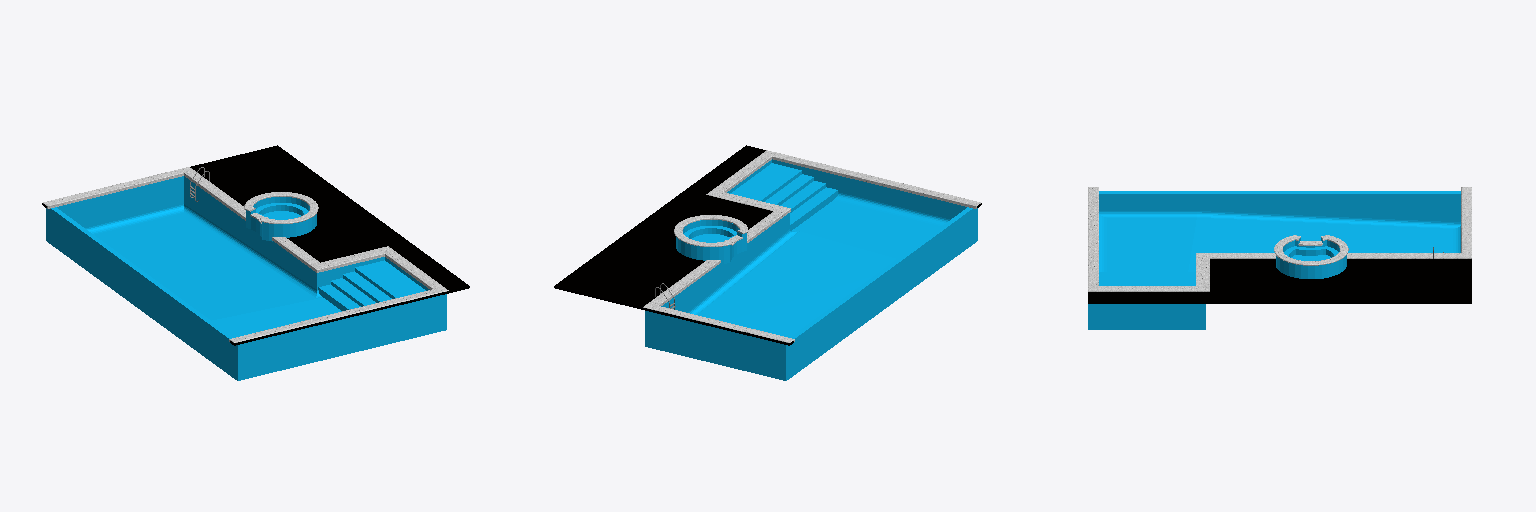
3 renders of one model, left to right at view 1: azimuth 30°, elevation 25°; view 2: azimuth 150°, elevation 25°; view 3: azimuth 270°, elevation 25°, orthographic.
Parts seen in each view (by area): view 1: infinity_sombra, infinity_suelo_sombra, infinity_borde_sombra, escalera_obra_infinity_sombra, jacuzzi_infinity_sombra, jacuzzi_borde_infinity_sombra; view 2: infinity_sombra, infinity_suelo_sombra, infinity_borde_sombra, escalera_obra_infinity_sombra, jacuzzi_infinity_sombra, jacuzzi_borde_infinity_sombra; view 3: infinity_sombra, infinity_suelo_sombra, infinity_borde_sombra, escalera_obra_infinity_sombra, jacuzzi_infinity_sombra, jacuzzi_borde_infinity_sombra.
Boxes of the visible parts, x1,y1,x2,y2 form: infinity_sombra: [46, 176, 446, 380]; infinity_suelo_sombra: [42, 145, 469, 345]; infinity_borde_sombra: [43, 167, 448, 342]; escalera_obra_infinity_sombra: [318, 260, 425, 310]; jacuzzi_infinity_sombra: [246, 197, 316, 241]; jacuzzi_borde_infinity_sombra: [244, 192, 318, 223]; infinity_sombra: [645, 159, 977, 380]; infinity_suelo_sombra: [554, 145, 981, 345]; infinity_borde_sombra: [643, 150, 980, 342]; escalera_obra_infinity_sombra: [730, 163, 837, 230]; jacuzzi_infinity_sombra: [676, 220, 746, 263]; jacuzzi_borde_infinity_sombra: [674, 215, 748, 246]; infinity_sombra: [1088, 191, 1460, 329]; infinity_suelo_sombra: [1088, 259, 1471, 303]; infinity_borde_sombra: [1088, 187, 1471, 291]; escalera_obra_infinity_sombra: [1090, 272, 1195, 320]; jacuzzi_infinity_sombra: [1276, 238, 1346, 278]; jacuzzi_borde_infinity_sombra: [1274, 235, 1348, 265].
Bounding box in the file's own units: 669 × 147 × 945.
4 materials, 1 textured.